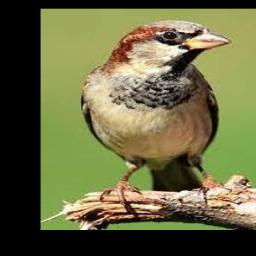Sparrow: (81, 21, 232, 208)
